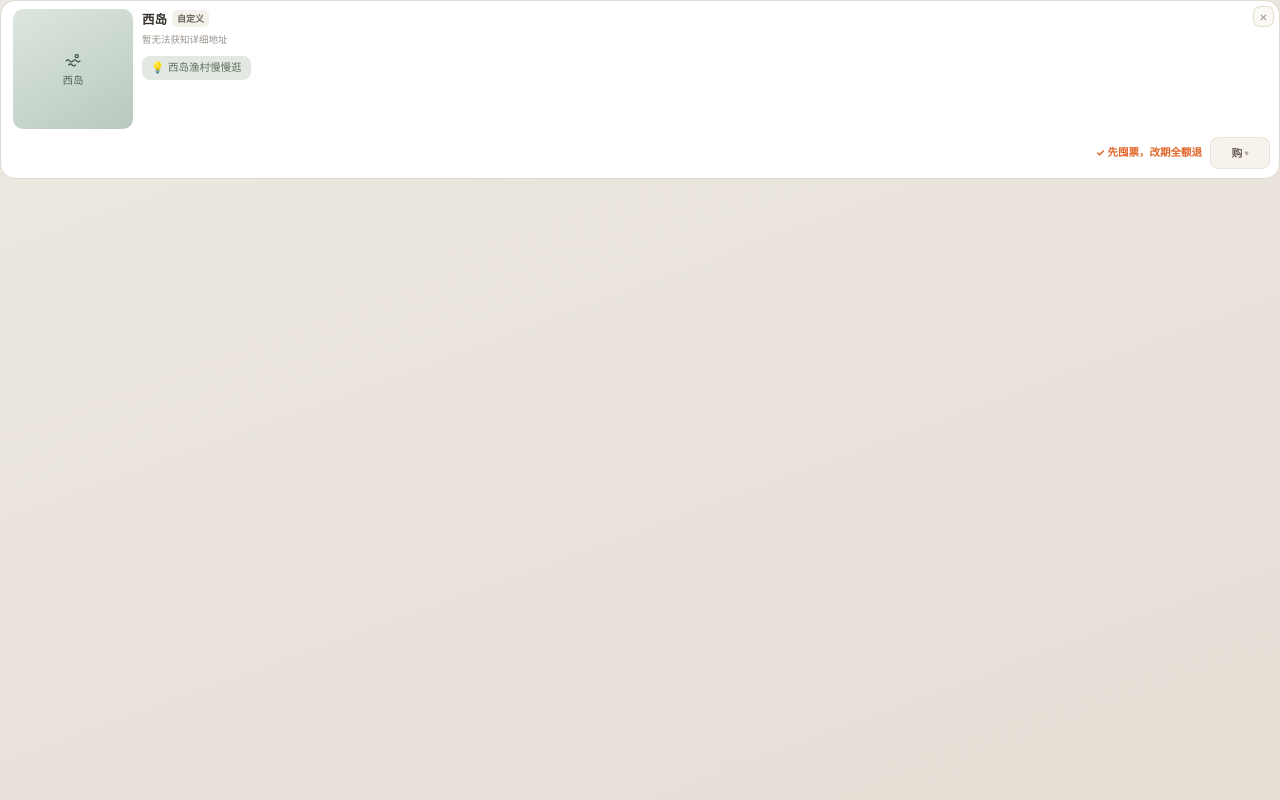
Test: VisitCard 普通景点（任务 124：绿色 chip 与灰色入口分离） › 无外部链接来源：灰色入口隐藏，绿色 chip 仍打开 EvidenceSheet 并定位对应提及
Click the button with class "guide-snippet-chip" at (196, 68), box [142, 56, 251, 80]
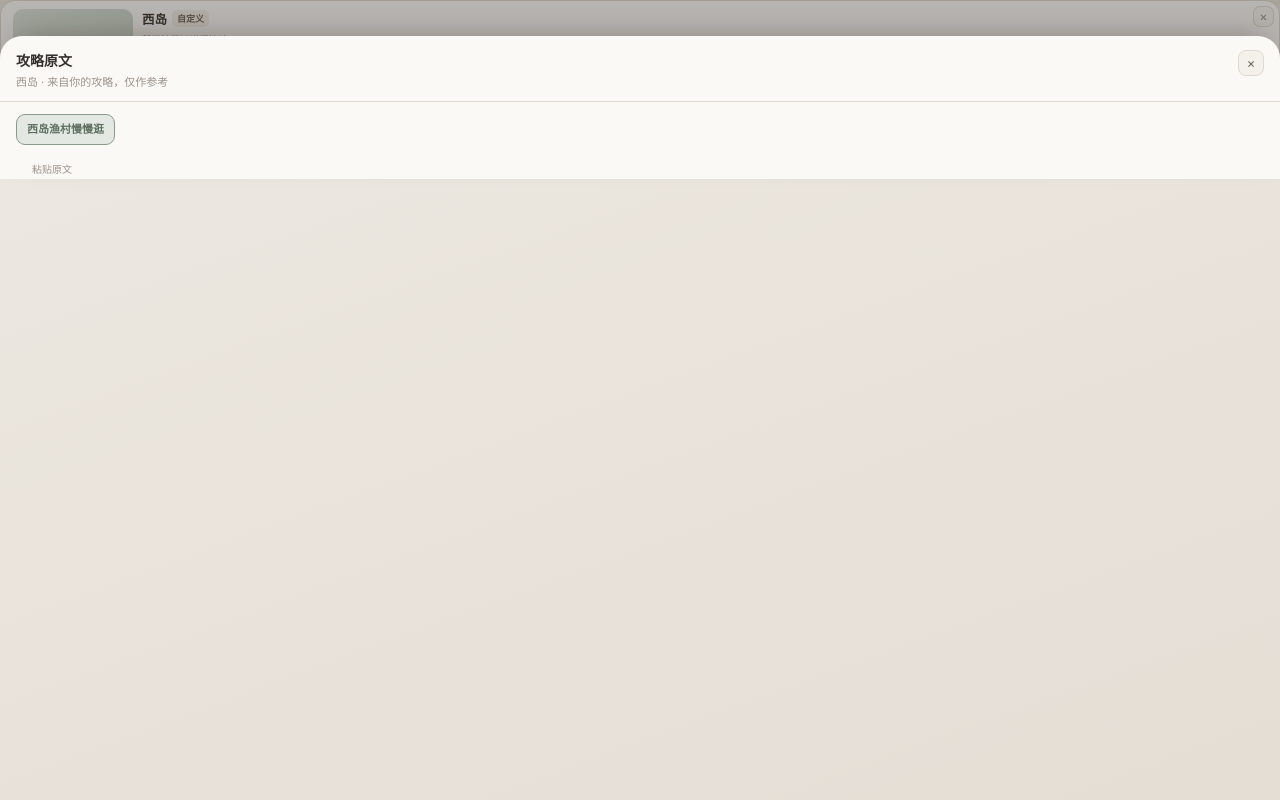
Now the dialog "攻略原文" is shown, box [0, 36, 1279, 179]
Now the button with class "hit" reads "西岛渔村慢慢逛", box [16, 114, 115, 145]
